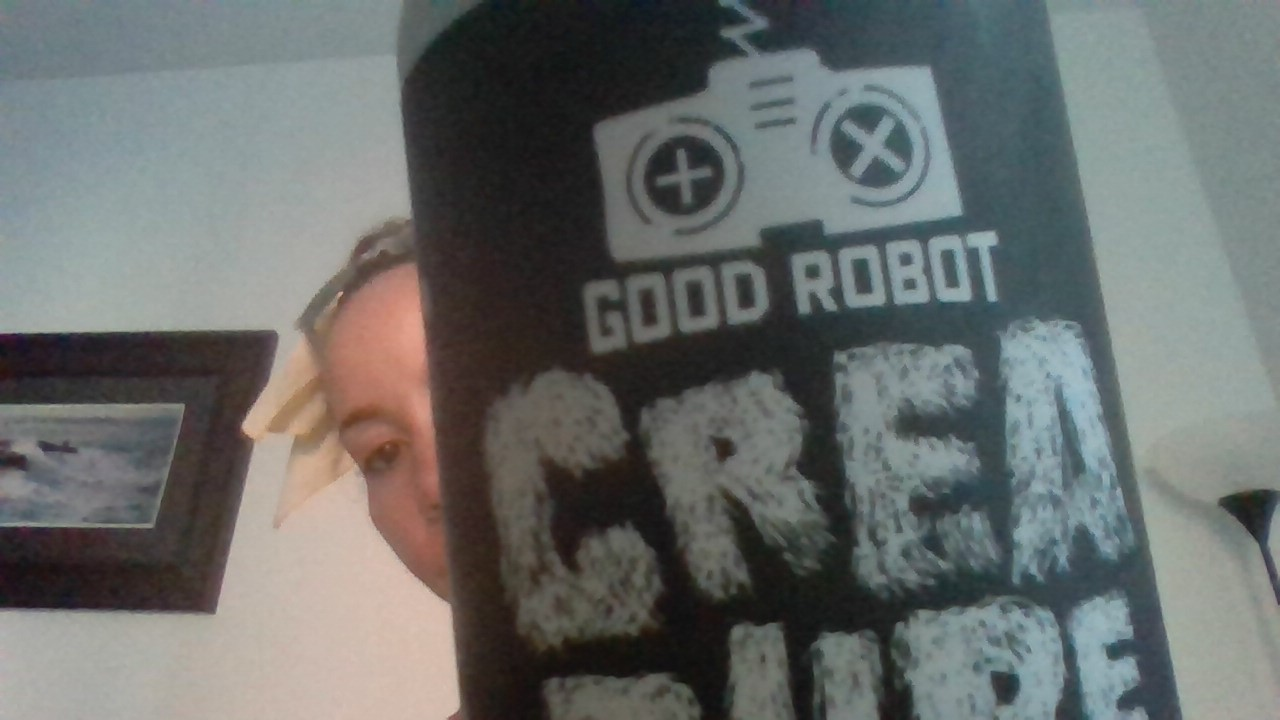Good Robot: (566, 1, 995, 257)
